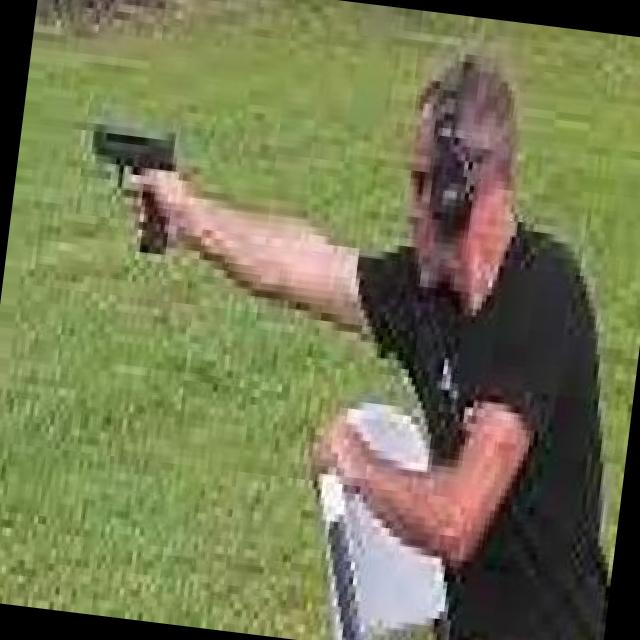Guns: (56, 98, 215, 277)
